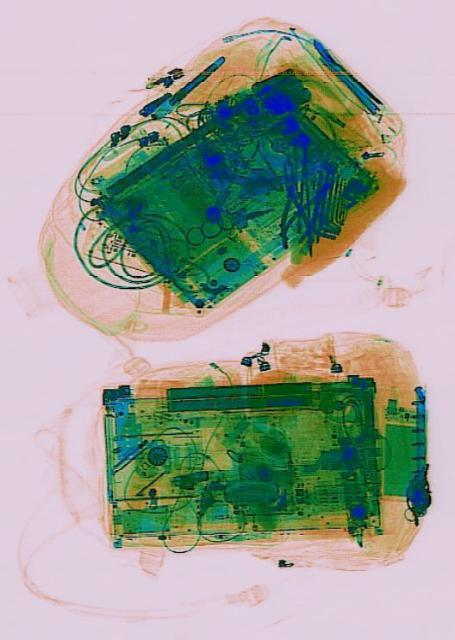Pliers: (276, 172, 335, 252), (270, 158, 310, 248)
